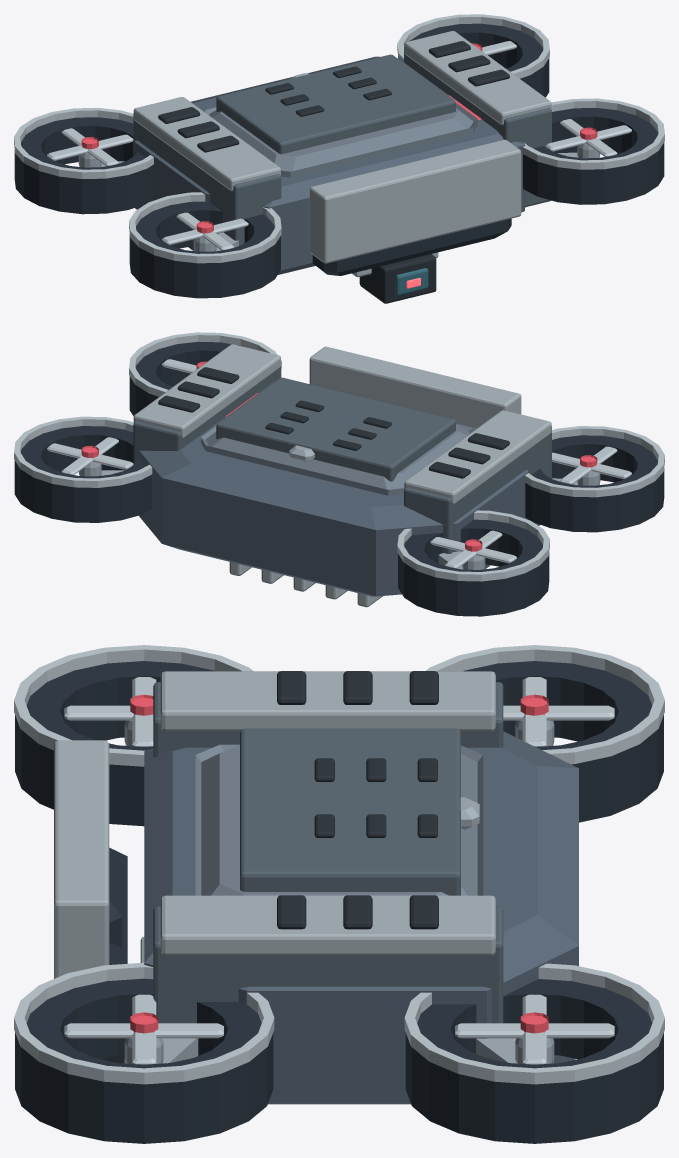
Rendered from SF_GuardDrone_GV.fbx.
3 views of the same model, one above another, from view 1: azimuth 30°, elevation 25°; view 2: azimuth 150°, elevation 25°; view 3: azimuth 270°, elevation 25° (orthographic). The views are drawn at different scales.
Parts seen in each view (by area): view 1: GuardArmouredChassis, VU_GuardPrecisionAssembly, Rotor2, Rotor0, Rotor1; view 2: GuardArmouredChassis, VU_GuardPrecisionAssembly, Rotor2, Rotor3, Rotor0; view 3: GuardArmouredChassis, VU_GuardPrecisionAssembly, Rotor3, Rotor1, Rotor2, Rotor0.
Boxes of the visible parts, box(x1,y1,x2,y2) form: GuardArmouredChassis: box(14, 14, 664, 298); VU_GuardPrecisionAssembly: box(133, 31, 551, 303); Rotor2: box(47, 128, 133, 167); Rotor0: box(162, 212, 248, 251); Rotor1: box(545, 119, 631, 158); GuardArmouredChassis: box(14, 332, 664, 616); VU_GuardPrecisionAssembly: box(133, 344, 551, 607); Rotor2: box(430, 530, 516, 569); Rotor3: box(47, 437, 133, 476); Rotor0: box(552, 446, 631, 485); GuardArmouredChassis: box(14, 645, 664, 1143); VU_GuardPrecisionAssembly: box(54, 671, 503, 1063); Rotor3: box(455, 994, 614, 1064); Rotor1: box(64, 994, 223, 1064); Rotor2: box(503, 677, 614, 746); Rotor0: box(64, 677, 156, 746).
Bounding box in the file's own units: 275 × 75.5 × 177.
